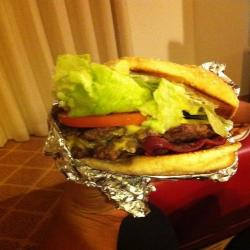burger: (45, 42, 246, 192)
